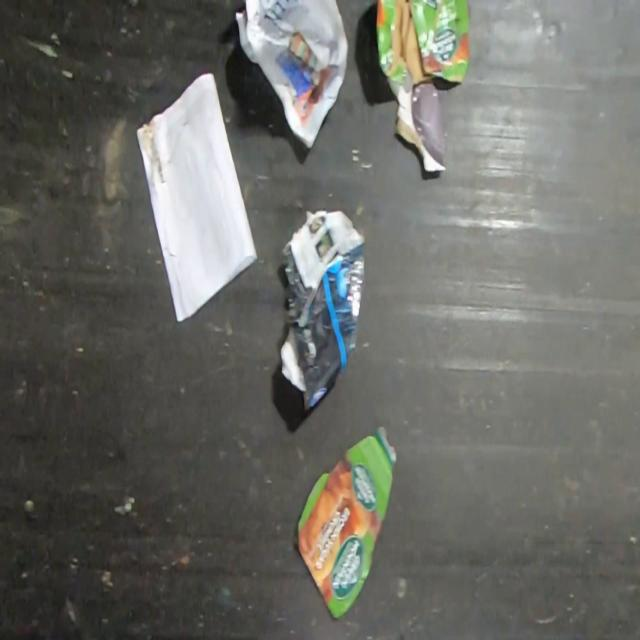cardboard: (296, 424, 399, 621), (374, 0, 471, 173)
